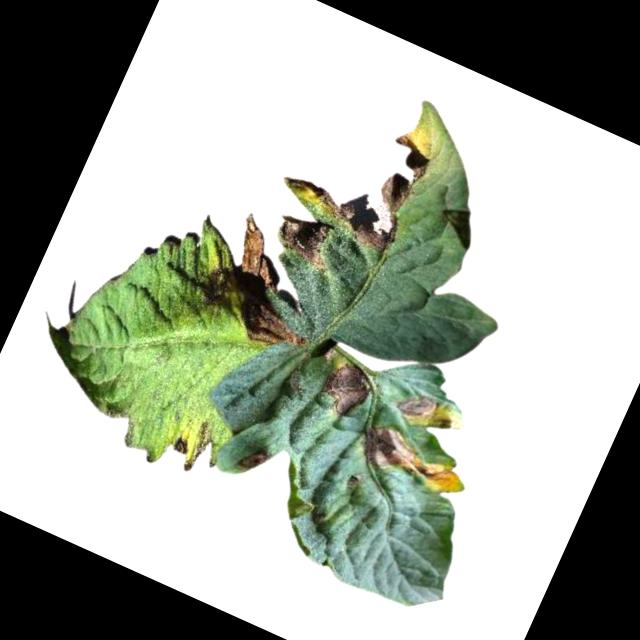Early_blight: (271, 94, 438, 258), (200, 212, 344, 362), (355, 414, 469, 501), (267, 203, 343, 274), (315, 354, 382, 426), (392, 385, 443, 431), (235, 442, 271, 479), (171, 432, 195, 457)
